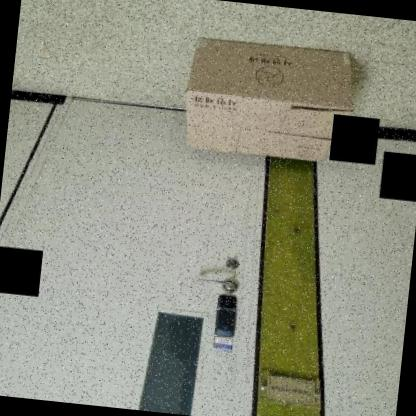box: (166, 23, 372, 177)
